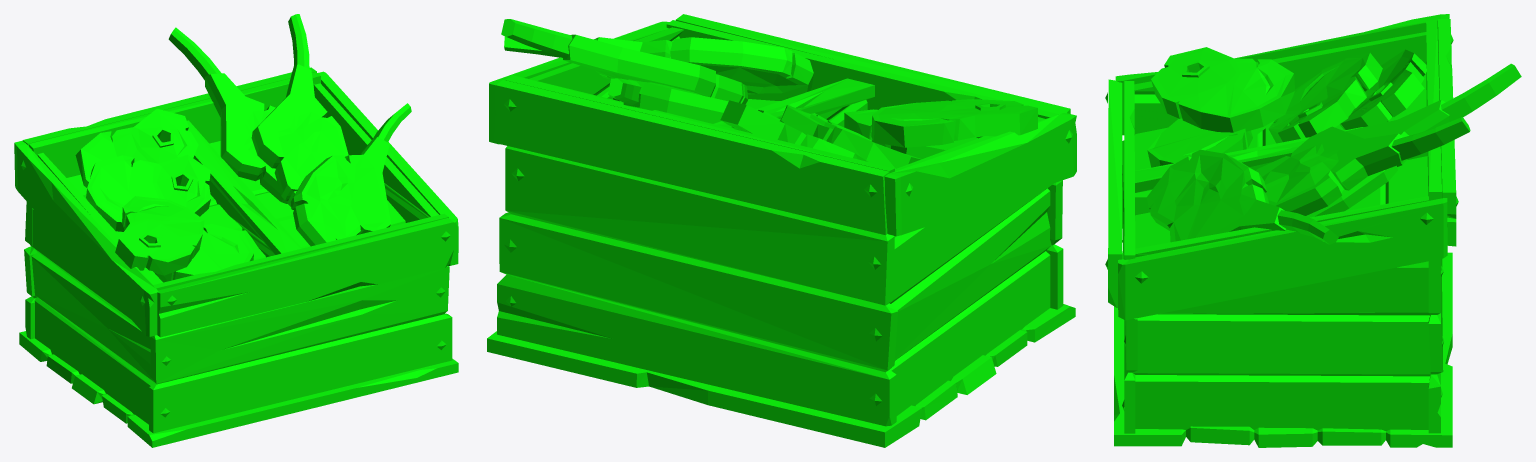
Rendered from SM_Crate_Small_Meat_Beef_Steaks_Fantasy.fbx.
The picture shows the model from 3 angles, left to right: view 1: azimuth 30°, elevation 25°; view 2: azimuth 150°, elevation 25°; view 3: azimuth 270°, elevation 25°; orthographic projection. The views are drawn at different scales.
Parts seen in each view (by area): view 1: crate-small-meat-beef-steaks-fantasy; view 2: crate-small-meat-beef-steaks-fantasy; view 3: crate-small-meat-beef-steaks-fantasy.
Boxes of the visible parts, x1,y1,x2,y2 form: crate-small-meat-beef-steaks-fantasy: [14, 14, 458, 447]; crate-small-meat-beef-steaks-fantasy: [487, 14, 1076, 447]; crate-small-meat-beef-steaks-fantasy: [1105, 14, 1521, 447].
Bounding box in the file's own units: 1.17 × 0.8404 × 0.9916.
